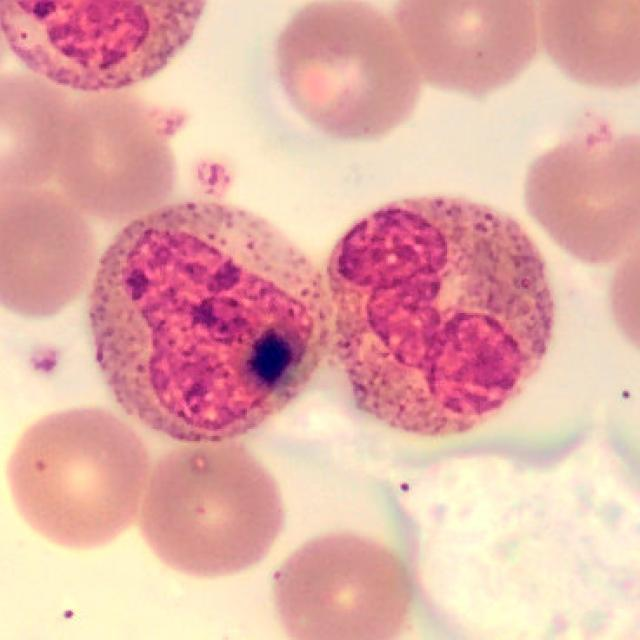Bastonete: (323, 199, 555, 439)
Mielocito: (89, 199, 330, 446)
